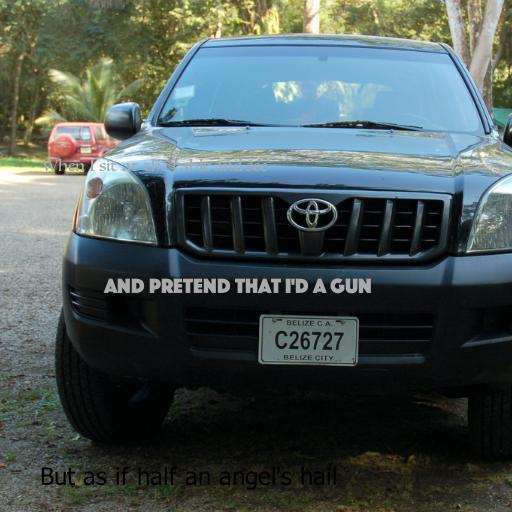Luminari: (41, 158, 267, 172)
Phosphate: (104, 278, 372, 294)
Tahoma: (39, 466, 337, 490)
